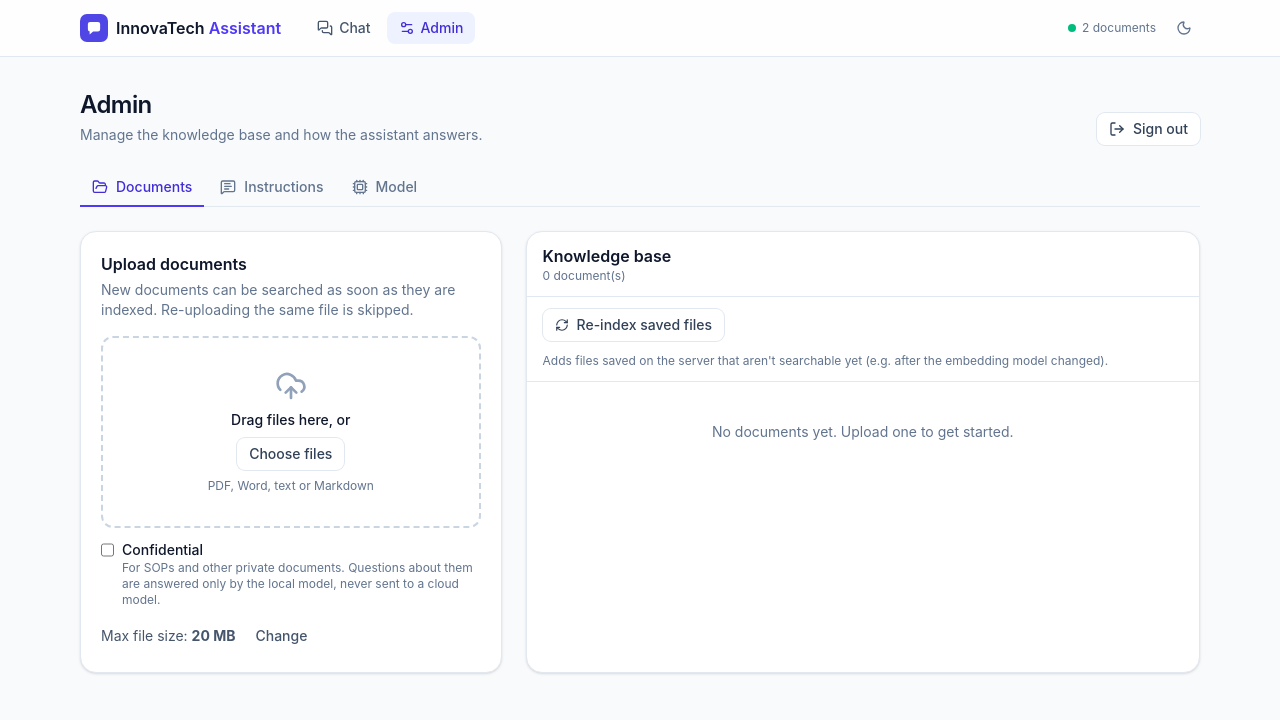
Scenario: AdminPage sign in › signs out
Click the button "Sign out". click: (1148, 129)
box: [1097, 113, 1200, 145]
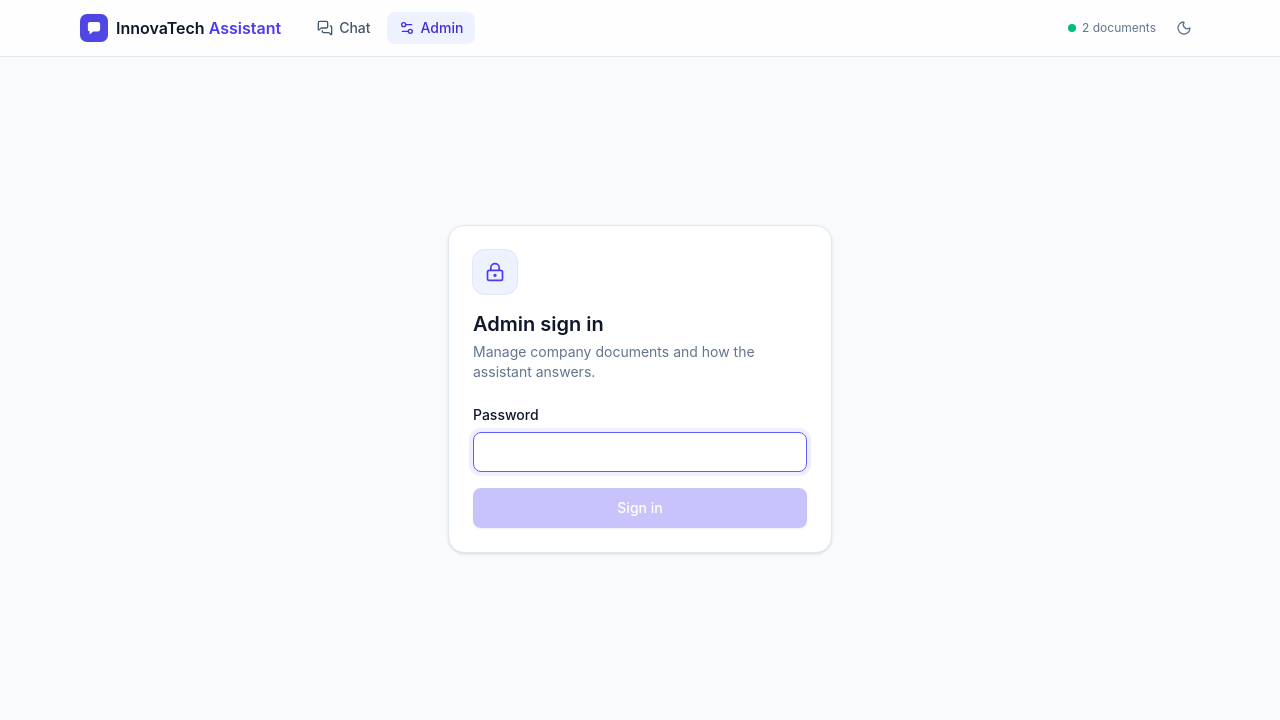
Check: the password field labelled "Password" is shown, box [473, 432, 807, 472]
